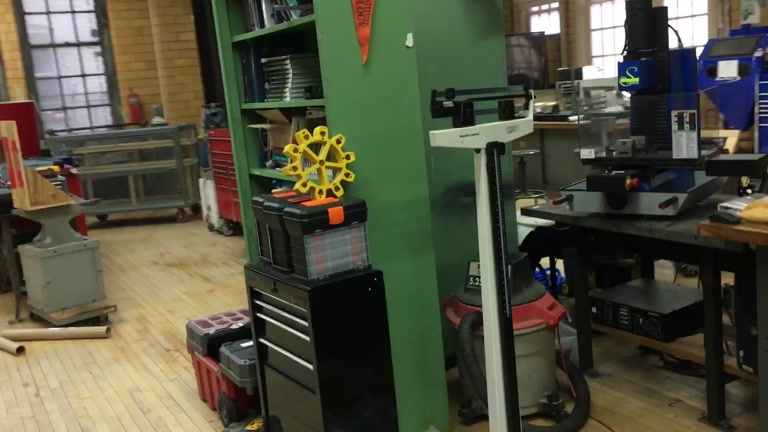gear: (282, 126, 354, 201)
